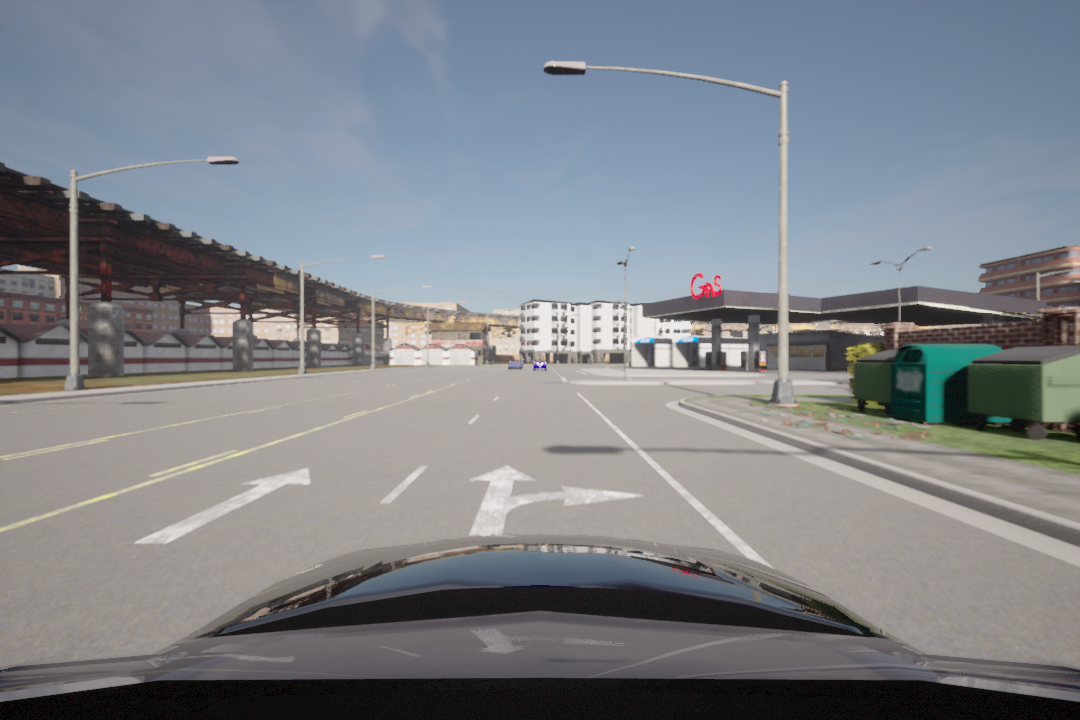RoadSign_forward: (134, 465, 324, 551)
RoadSign_forward_right: (463, 460, 653, 538)
